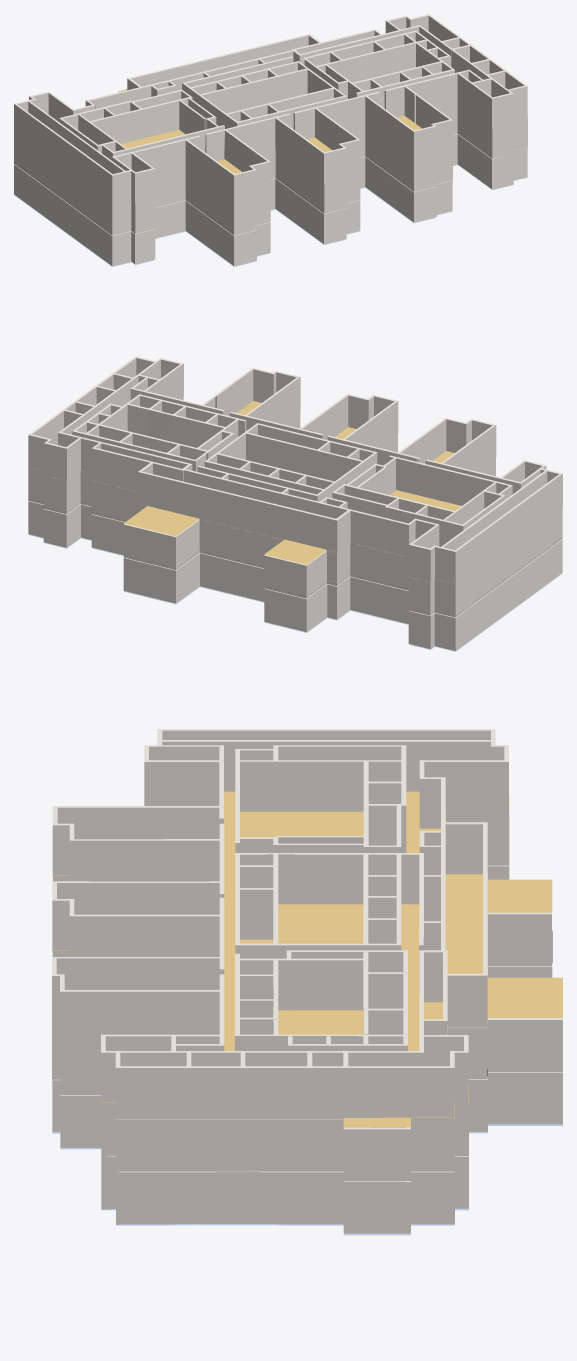
Rendered from Våning2.glb.
The picture shows the model from 3 angles, top to bottom: view 1: azimuth 30°, elevation 25°; view 2: azimuth 150°, elevation 25°; view 3: azimuth 270°, elevation 25°; orthographic projection. The views are drawn at different scales.
Visible parts, largest first — view 1: Plane.004, Plane, Plane.002, Plane.006, Plane.001; view 2: Plane.004, Plane.002, Plane, Plane.006, Plane.001; view 3: Plane.004, Plane.002, Plane, Plane.006, Plane.001.
Boxes of the visible parts, <box> form: Plane.004: <box>14,14,527,205</box>; Plane: <box>14,134,527,266</box>; Plane.002: <box>14,104,527,235</box>; Plane.006: <box>118,89,421,173</box>; Plane.001: <box>14,164,527,266</box>; Plane.004: <box>28,356,562,584</box>; Plane.002: <box>28,397,562,617</box>; Plane: <box>28,501,562,650</box>; Plane.006: <box>38,401,461,581</box>; Plane.001: <box>29,534,562,651</box>; Plane.004: <box>52,729,508,1119</box>; Plane.002: <box>52,812,562,1181</box>; Plane: <box>52,865,562,1233</box>; Plane.006: <box>53,791,562,1127</box>; Plane.001: <box>52,1124,562,1235</box>.
Size of the model in its own units: 356 by 120 by 230.
